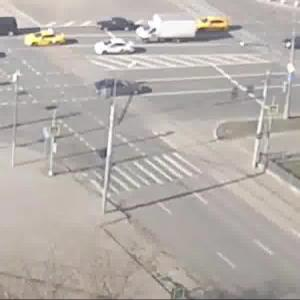car: (138, 14, 196, 46), (21, 29, 70, 48), (95, 15, 140, 34), (97, 80, 140, 96), (198, 16, 231, 34), (97, 42, 136, 56)
